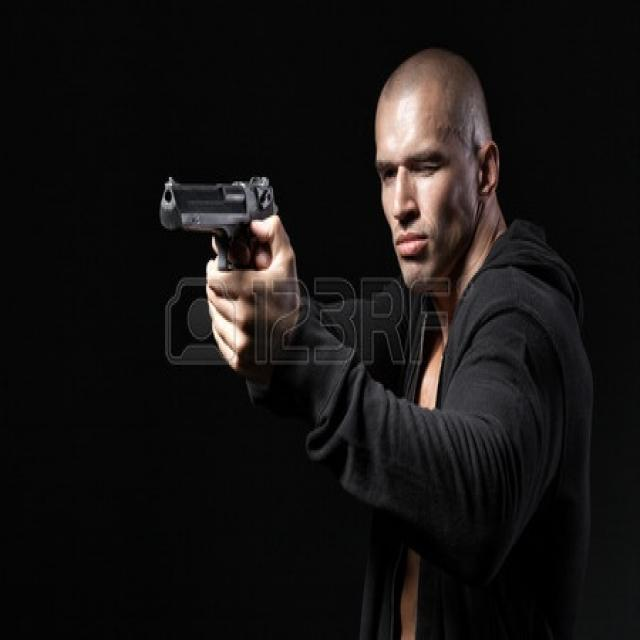gun: (147, 165, 296, 338)
